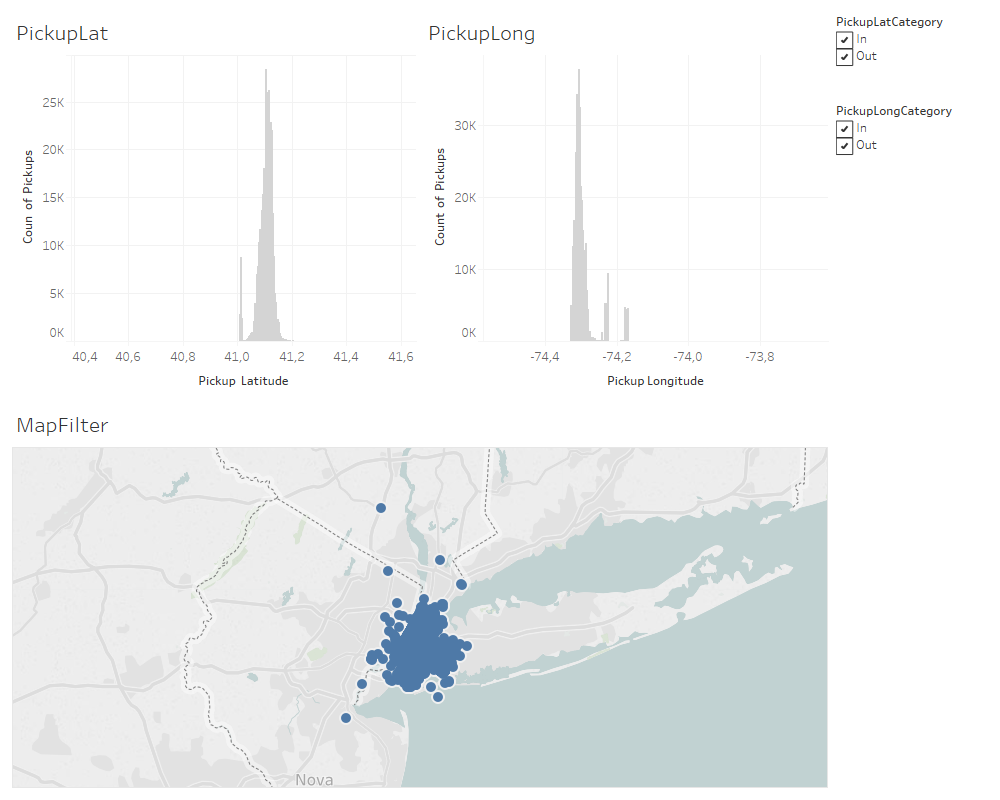

The dashboard page shown, as its layout file describes it:
{"tool":"tableau","page":{"name":"MapFilterViz","canvas":[1000,800],"ordinal":1},"visuals":[{"type":"worksheet","title":"PickupLat","mark":"Automatic","rows":["Calculation_347340130978074628"],"cols":["pickup_lat (bin)"],"box":[8,8,412,392]},{"type":"worksheet","title":"PickupLong","mark":"Automatic","rows":["Calculation_347340130978222085"],"cols":["pickup_long (bin)"],"box":[420,8,412,392]},{"type":"filter","title":"PickupLat","param":"[federated.1myl53q1t8nbts1h558a718sao7p].[none:Calculation_272749262302699520:nk","box":[832,8,160,89]},{"type":"filter","title":"PickupLong","param":"[federated.1myl53q1t8nbts1h558a718sao7p].[none:Calculation_272749262316453889:nk","box":[832,97,160,89]},{"type":"worksheet","title":"MapFilter","mark":"Automatic","rows":["Calculation_347340130978074628"],"cols":["Calculation_347340130978222085"],"box":[8,400,824,392]}]}

Visuals, with their boxes in screenshot pixels (x1, y1, x2, y2), scaled from the page's 1000x800 canvas onto the 1000x800 screenshot:
"PickupLat" worksheet: 8/8/420/400
"PickupLong" worksheet: 420/8/832/400
"PickupLat" filter: 832/8/992/97
"PickupLong" filter: 832/97/992/186
"MapFilter" worksheet: 8/400/832/792
